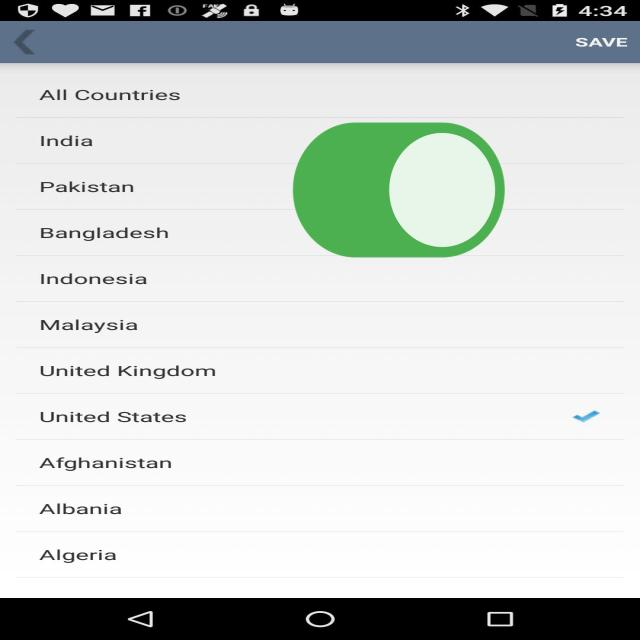social proof: (284, 70, 514, 320)
